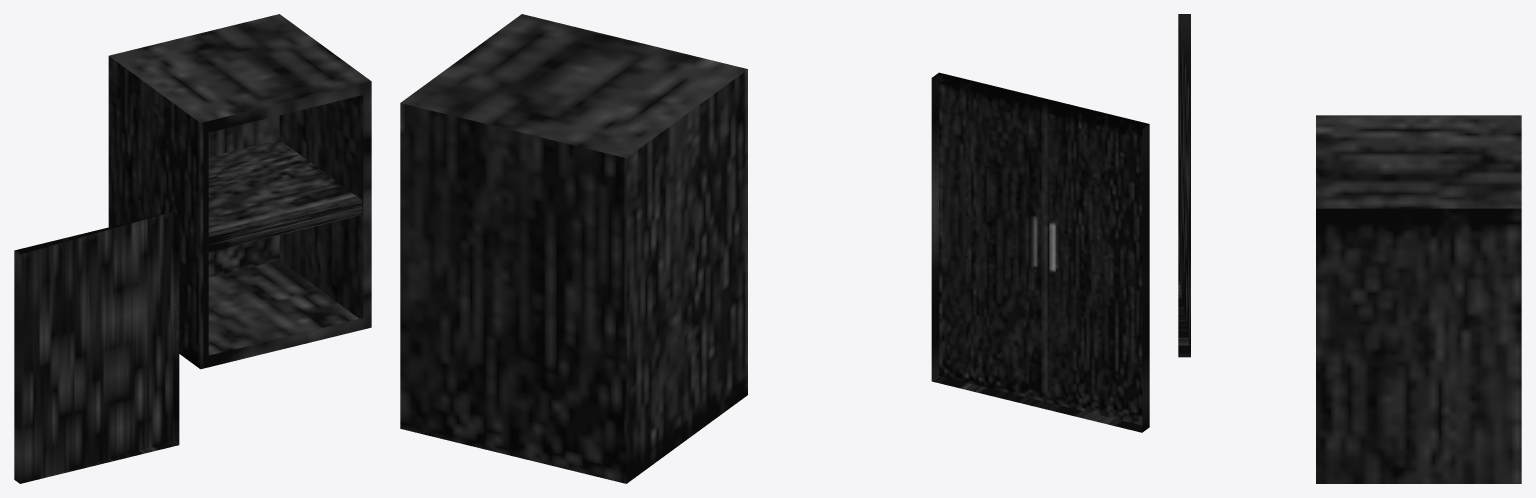
The model's file is tankcabinet.glb.
The picture shows the model from 3 angles, left to right: view 1: azimuth 30°, elevation 25°; view 2: azimuth 150°, elevation 25°; view 3: azimuth 270°, elevation 25°; orthographic projection. The views are drawn at different scales.
Parts seen in each view (by area): view 1: CABINET, CABINET DOOR; view 2: CABINET, CABINET DOOR; view 3: CABINET, CABINET DOOR.
Part boxes in pixels (left/top/right/bottom): CABINET: left=108, top=14, right=371, bottom=369; CABINET DOOR: left=14, top=211, right=179, bottom=483; CABINET: left=400, top=14, right=747, bottom=483; CABINET DOOR: left=931, top=72, right=1149, bottom=432; CABINET: left=1316, top=115, right=1521, bottom=483; CABINET DOOR: left=1178, top=14, right=1190, bottom=357.
Bounding box in the file's own units: 5.07 × 3.01 × 3.26.
2 materials, 2 textured.
